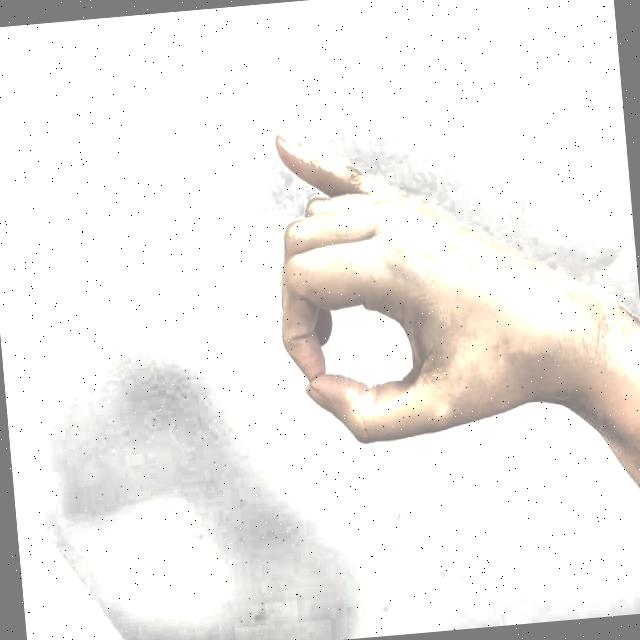Ou: (231, 78, 578, 498)
